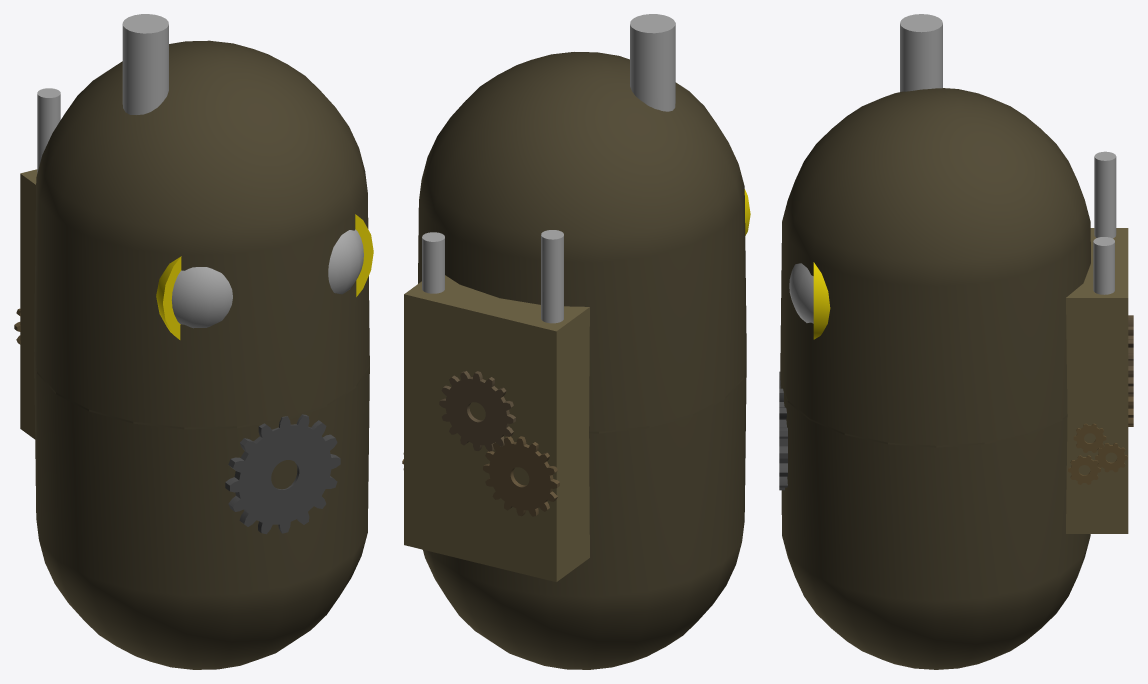
File: CharacterTest3.fbx
3 views of the same model, side by side, from view 1: azimuth 30°, elevation 25°; view 2: azimuth 150°, elevation 25°; view 3: azimuth 270°, elevation 25° (orthographic). The views are drawn at different scales.
Visible parts, largest first — view 1: EngineBox_EngineBox; view 2: EngineBox_EngineBox; view 3: EngineBox_EngineBox.
Boxes of the visible parts, x1=… form: EngineBox_EngineBox: x1=14, y1=14, x2=373, y2=669; EngineBox_EngineBox: x1=402, y1=14, x2=750, y2=669; EngineBox_EngineBox: x1=779, y1=14, x2=1133, y2=669.
Size of the model in its own units: 569 by 1213 by 645.
